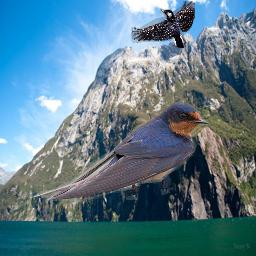Swallow: (29, 101, 210, 204)
Woodpecker: (131, 1, 195, 48)
